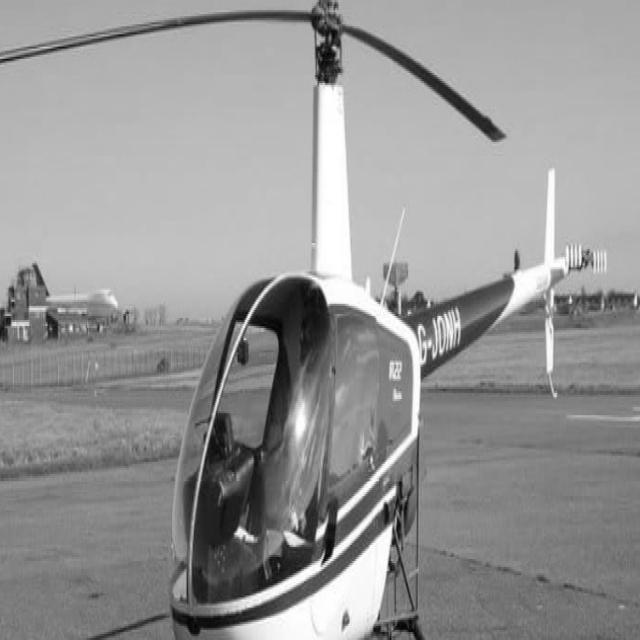helicopter: (1, 1, 607, 640)
